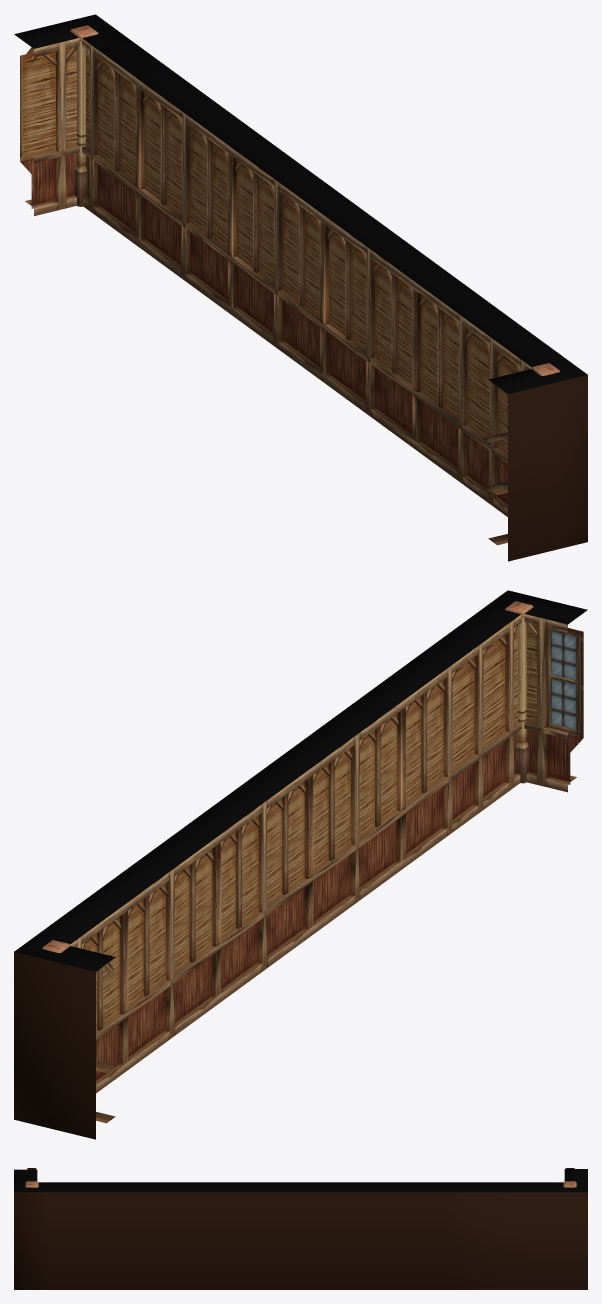
The model's file is s_SWGclass01b_4.glb.
The picture shows the model from 3 angles, top to bottom: view 1: azimuth 30°, elevation 25°; view 2: azimuth 150°, elevation 25°; view 3: azimuth 270°, elevation 25°; orthographic projection. The views are drawn at different scales.
Visible parts, largest first — view 1: s_SWGclass01b_4; view 2: s_SWGclass01b_4; view 3: s_SWGclass01b_4.
Part boxes in pixels (left/top/right/bottom): s_SWGclass01b_4: left=14, top=14, right=587, bottom=561; s_SWGclass01b_4: left=14, top=590, right=587, bottom=1139; s_SWGclass01b_4: left=14, top=1168, right=587, bottom=1289.
Bounding box in the file's own units: 1.75 × 3.03 × 16.
3 materials, 3 textured.
